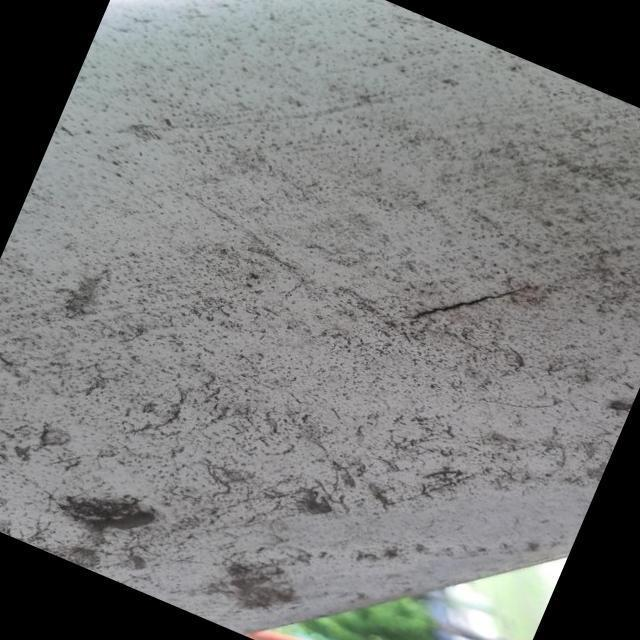defect: (393, 279, 529, 321)
